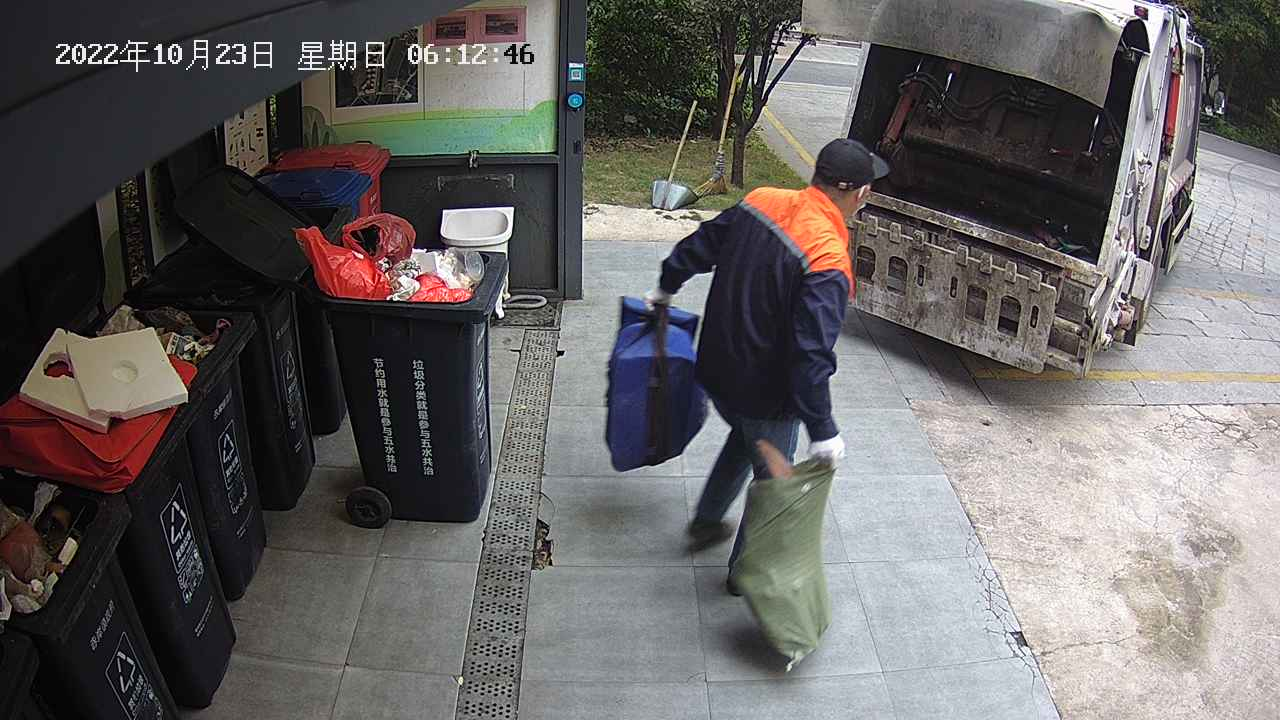garbage-bag: (717, 433, 851, 680)
worker: (637, 130, 895, 598)
